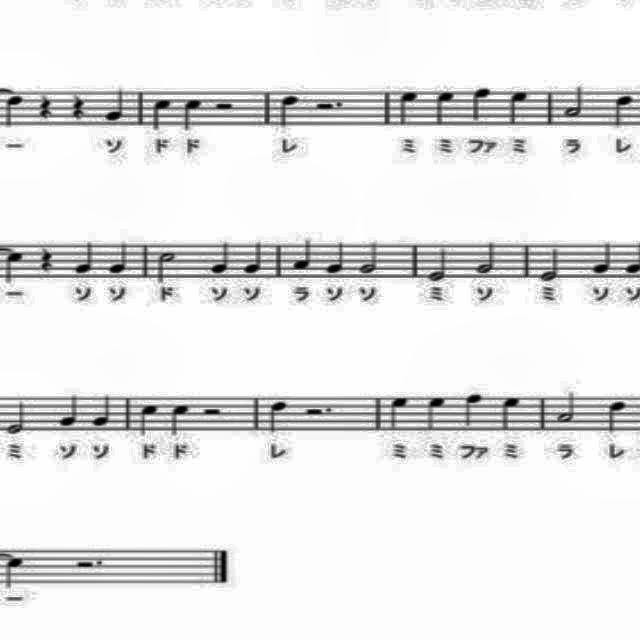Half-note: (2, 389, 30, 439), (536, 242, 564, 290), (423, 243, 453, 287), (475, 235, 503, 278), (357, 239, 387, 277), (562, 81, 590, 121), (151, 248, 179, 286), (554, 389, 578, 426)
Half-rest: (66, 554, 114, 574), (297, 402, 341, 418), (196, 398, 224, 422), (314, 95, 346, 114), (209, 96, 239, 112)
Quarter-note: (392, 86, 420, 132), (460, 388, 488, 434), (431, 88, 461, 130), (100, 84, 128, 128), (506, 86, 534, 130), (206, 238, 234, 282), (56, 392, 84, 436), (422, 392, 450, 436), (265, 394, 291, 440), (1, 90, 29, 132), (288, 235, 316, 277), (587, 238, 615, 280), (275, 94, 307, 130), (467, 82, 493, 126), (387, 394, 413, 438), (180, 95, 208, 135), (608, 91, 636, 131), (106, 236, 134, 276), (499, 394, 527, 434), (602, 398, 630, 438), (242, 234, 266, 280), (88, 392, 115, 432), (0, 248, 26, 288), (144, 95, 172, 131), (68, 240, 96, 276), (168, 398, 192, 438), (322, 238, 346, 278), (4, 554, 28, 594), (136, 401, 160, 439)
Quarter-rest: (32, 237, 56, 279), (68, 89, 90, 123), (34, 90, 54, 122)
